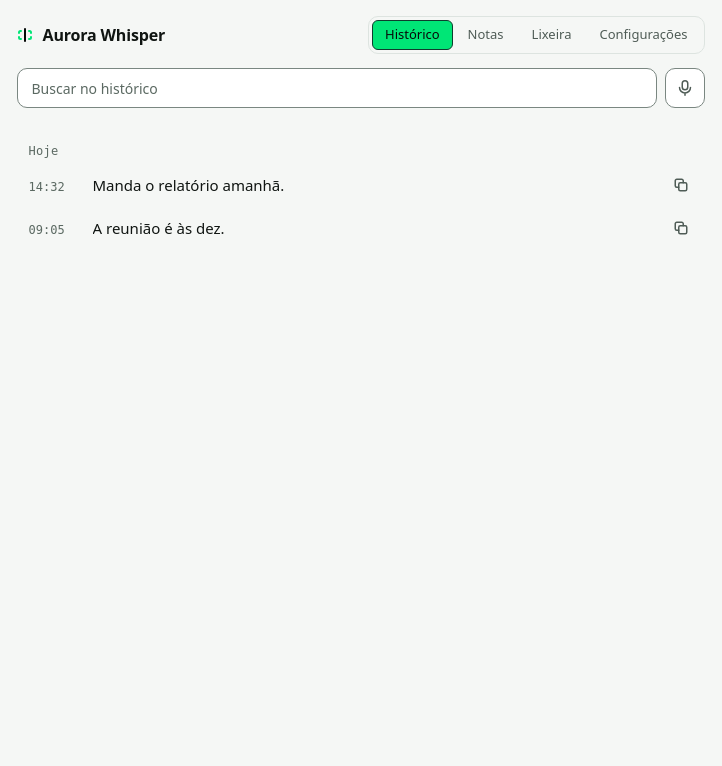
Scenario: o ditado que chega › o envio leva o áudio cru, o id v7 e o que o app mediu; o corpo não é JSON nem multipart
This screenshot has width=722, height=766.
Expected: the button "14:32 Manda o relatório amanhã." is shown, [16,164,704,206]
Click the button named "Ditar".
click(684, 88)  # box [664,68,704,108]
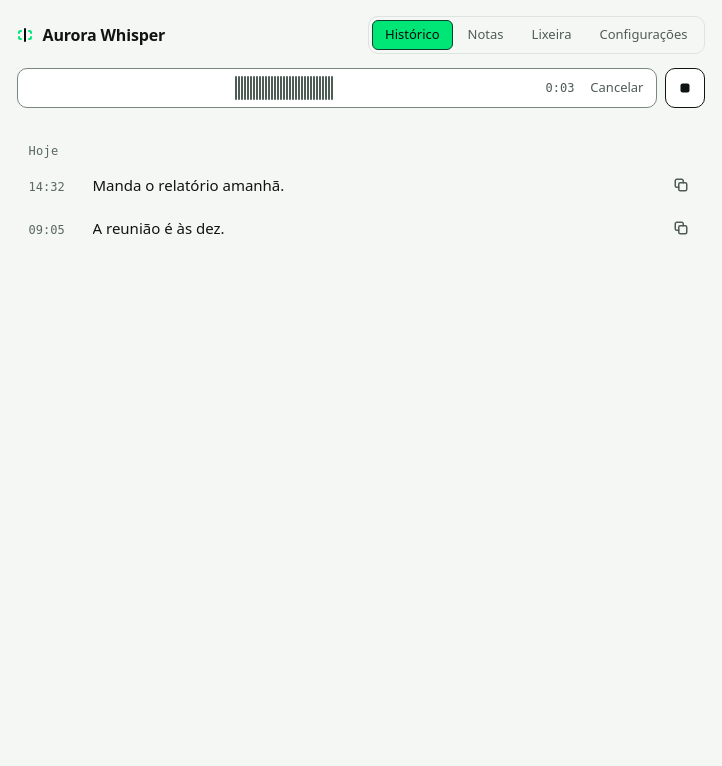
Now the button named "Parar e enviar" is shown
Click the button named "Parar e enviar".
click(684, 88)  # box [664,68,704,108]
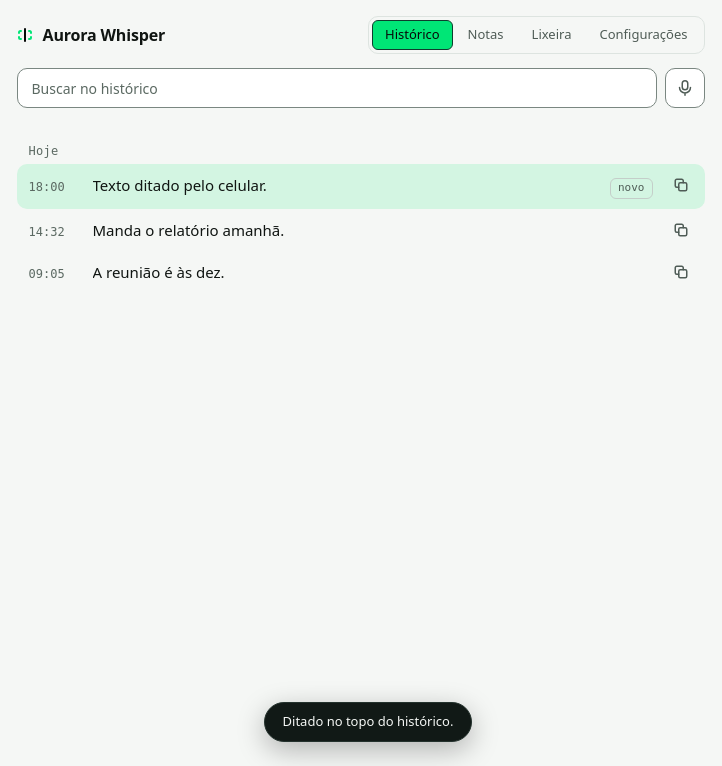
Now the text "Texto ditado pelo celular." is shown, box [92,175,267,195]
